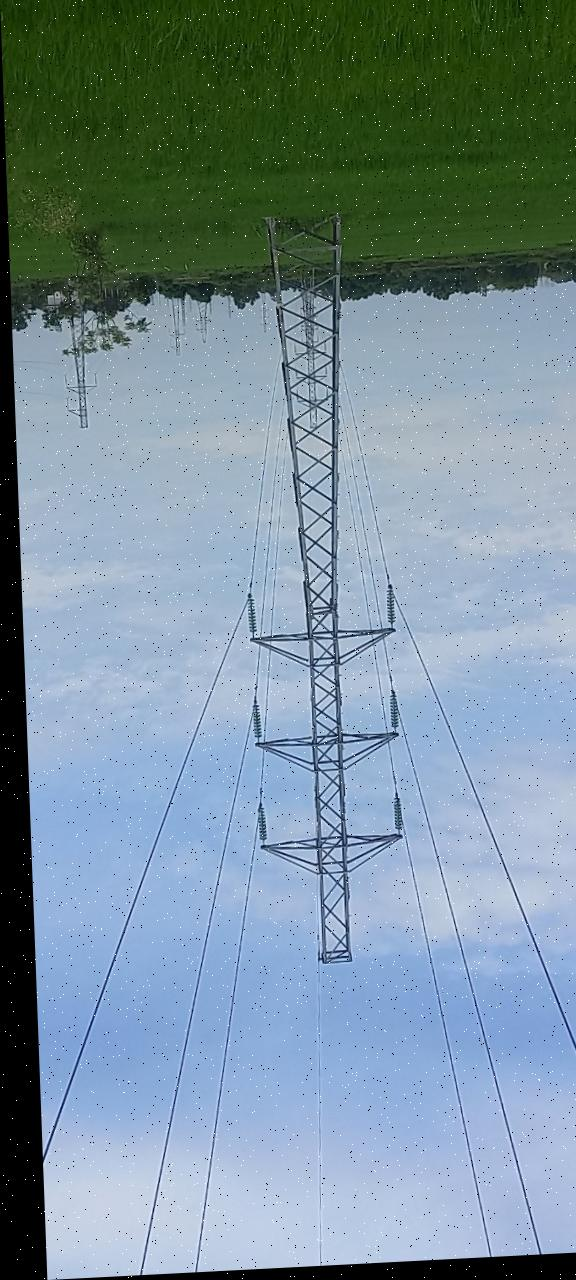tower: (224, 200, 412, 969)
